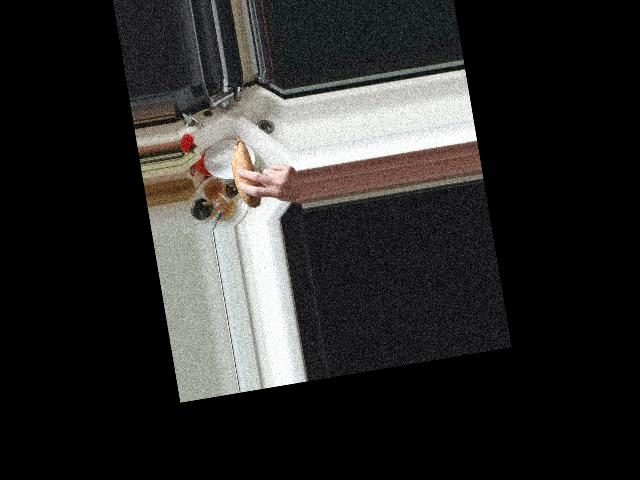sweet_potato: (227, 130, 266, 212)
